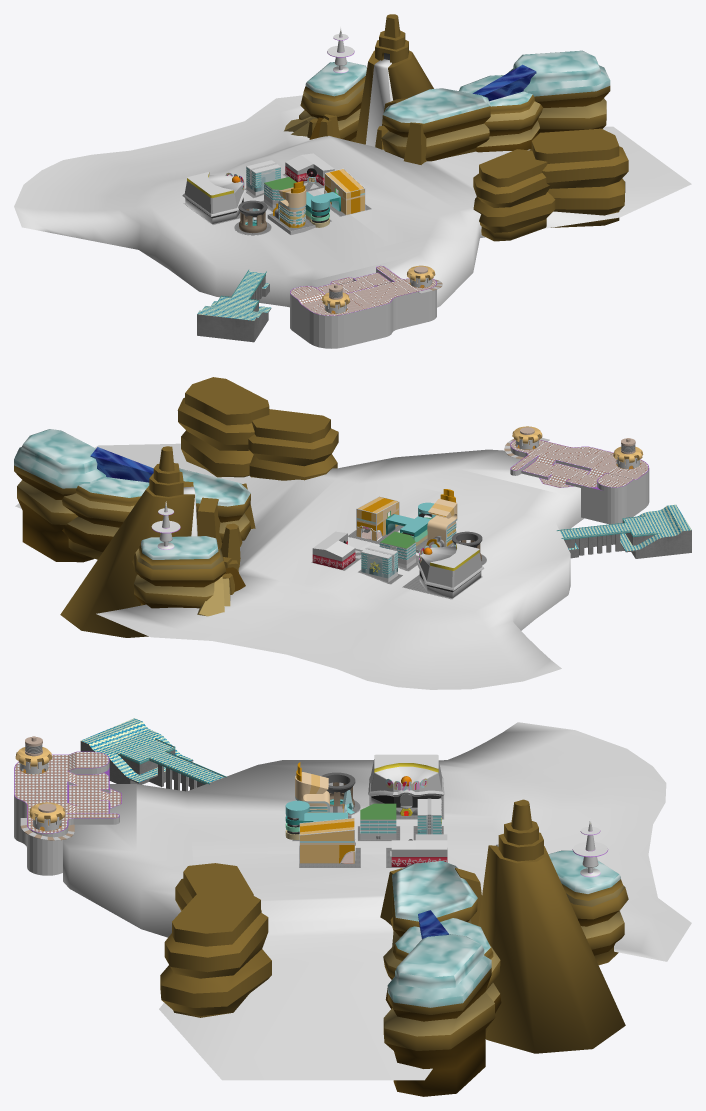
Rendered from OpenCourse.fbx.
3 renders of one model, top to bottom at view 1: azimuth 30°, elevation 25°; view 2: azimuth 150°, elevation 25°; view 3: azimuth 270°, elevation 25°, orthographic. The views are drawn at different scales.
Parts seen in each view (by area): view 1: OCTerrain, RuinsCastle, SimpleRockCliff.004, SimpleRockCliff, SimpleRockCliff.002, SimpleRockCliff.005, SimpleRockCliff.001, pier, SourceMountain, SimpleRockCliff.003, Casino, Cascade (+9 smaller); view 2: OCTerrain, SourceMountain, SimpleRockCliff.005, RuinsCastle, SimpleRockCliff.004, SimpleRockCliff.001, SimpleRockCliff, pier, SimpleRockCliff.003, Casino, SimpleRockCliff.002, CascadeRock1.002 (+10 smaller); view 3: OCTerrain, SourceMountain, SimpleRockCliff.005, SimpleRockCliff.004, RuinsCastle, pier, SimpleRockCliff.001, SimpleRockCliff.002, Casino, SimpleRockCliff.003, CityShop, SimpleRockCliff (+7 smaller).
Part boxes in pixels (x1,y1,x2,y2): OCTerrain: (14, 95, 691, 307); RuinsCastle: (290, 265, 436, 348); SimpleRockCliff.004: (530, 128, 628, 227); SimpleRockCliff: (473, 149, 555, 241); SimpleRockCliff.002: (381, 88, 490, 161); SimpleRockCliff.005: (507, 50, 610, 133); SimpleRockCliff.001: (299, 61, 366, 142); pier: (197, 271, 271, 342); SourceMountain: (355, 14, 433, 144); SimpleRockCliff.003: (459, 75, 542, 152); Casino: (184, 172, 244, 223); Cascade: (365, 59, 392, 146); OCTerrain: (15, 443, 583, 689); SourceMountain: (60, 446, 194, 637); SimpleRockCliff.005: (14, 429, 105, 562); RuinsCastle: (510, 439, 649, 524); SimpleRockCliff.004: (177, 377, 269, 477); SimpleRockCliff.001: (132, 536, 226, 608); SimpleRockCliff: (247, 409, 338, 480); pier: (560, 504, 691, 558); SimpleRockCliff.003: (62, 477, 149, 559); Casino: (419, 543, 481, 598); SimpleRockCliff.002: (179, 468, 250, 542); CascadeRock1.002: (90, 447, 153, 482); OCTerrain: (63, 722, 691, 1080); SourceMountain: (478, 799, 625, 1053); SimpleRockCliff.005: (383, 934, 495, 1096); SimpleRockCliff.004: (160, 886, 271, 1017); RuinsCastle: (14, 751, 121, 875); pier: (80, 718, 224, 791); SimpleRockCliff.001: (548, 850, 628, 965); SimpleRockCliff.002: (390, 861, 477, 946); Casino: (370, 754, 442, 815); SimpleRockCliff.003: (383, 918, 501, 1036); CityShop: (300, 818, 354, 863); SimpleRockCliff: (175, 863, 261, 912).
Size of what is drawn, in the model's own units: 3190 by 2626 by 912.
